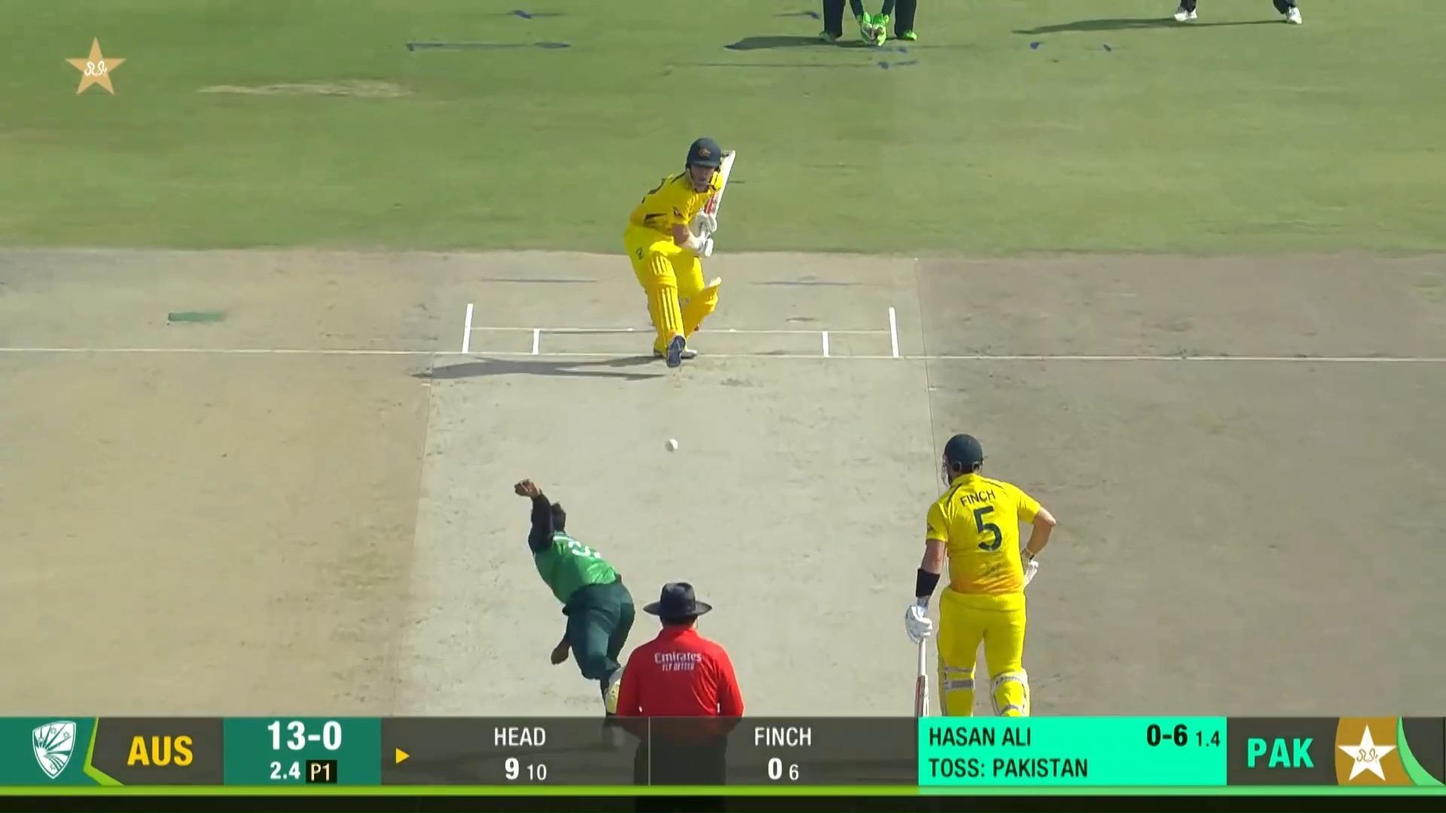BM 1: (624, 137, 738, 368)
BO: (514, 477, 636, 751)
